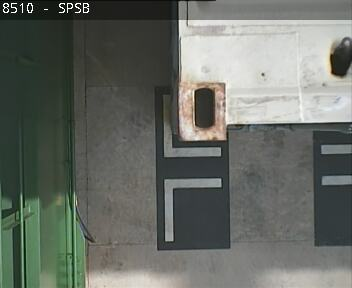groundmarker_1: (161, 93, 221, 243)
